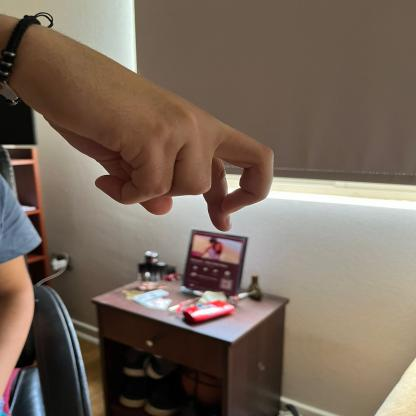P: (13, 16, 282, 233)
